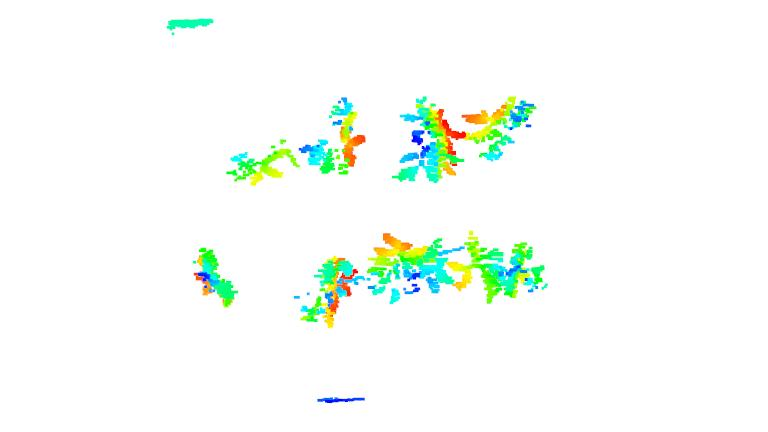chickpea: (453, 235, 549, 304), (389, 94, 461, 183), (365, 233, 458, 299), (461, 92, 539, 163), (300, 95, 368, 174), (295, 253, 362, 327), (223, 145, 294, 188), (194, 246, 239, 310)
